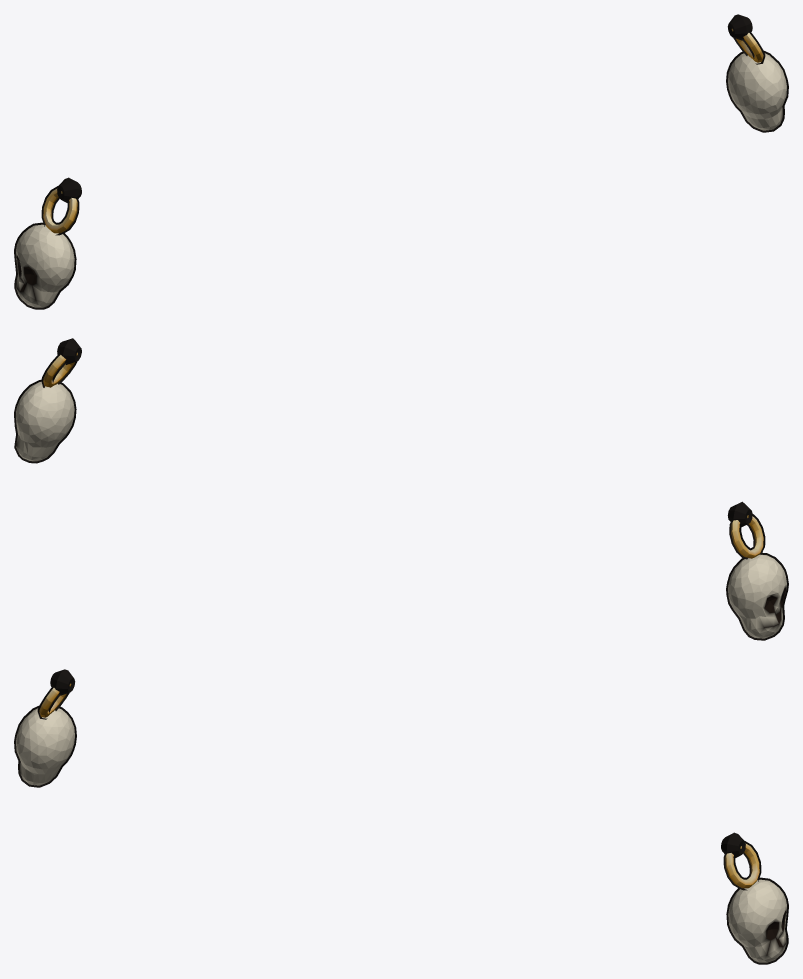
File: earring_skull_male_lo.glb
The picture shows the model from 3 angles, top to bottom: view 1: azimuth 30°, elevation 25°; view 2: azimuth 150°, elevation 25°; view 3: azimuth 330°, elevation 25°; orthographic projection.
Parts seen in each view (by area): view 1: earring_skull_male_hi; view 2: earring_skull_male_hi; view 3: earring_skull_male_hi.
Part boxes in pixels (box(x1,y1,x2,y2)): earring_skull_male_hi: box(14, 14, 788, 309); earring_skull_male_hi: box(14, 338, 788, 640); earring_skull_male_hi: box(14, 669, 788, 964).
Size of the model in its own units: 0.477 by 0.0746 by 0.0408.
